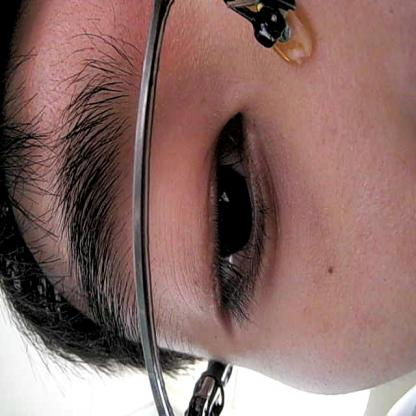Straight: (181, 96, 288, 329)
